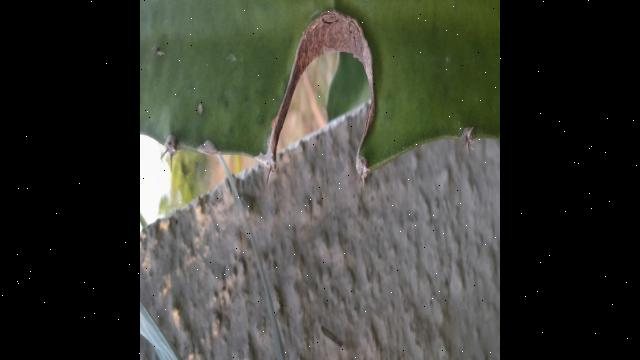stemcanker: (179, 96, 215, 122), (149, 31, 176, 60), (149, 94, 171, 118)
